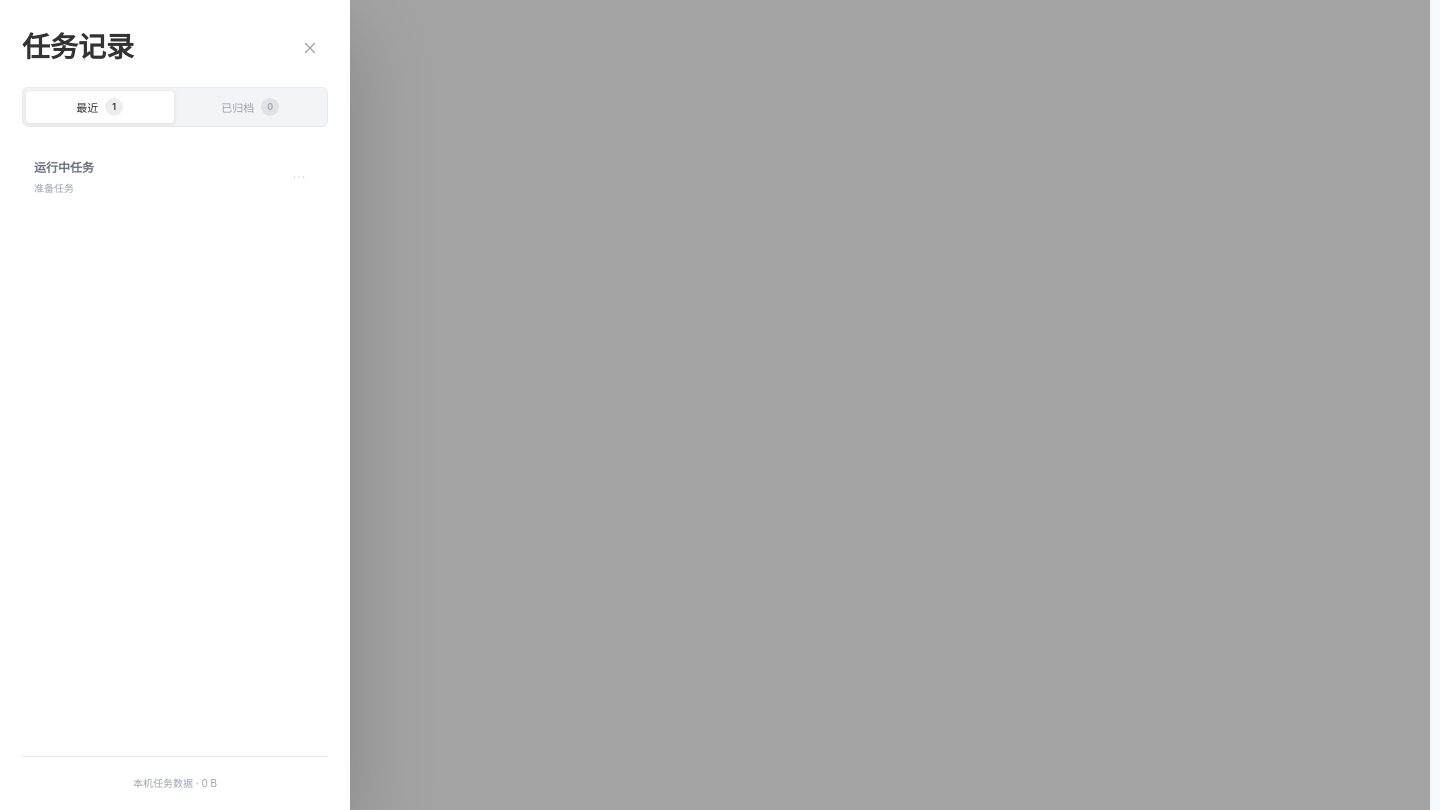
归档与恢复 › queued/running 任务禁用归档与删除菜单项
The image size is (1440, 810).
Expected: the text "运行中任务" is shown, [34,160,94,175]
Click the button named "更多操作" at (299, 177), box [284,162,314,192]
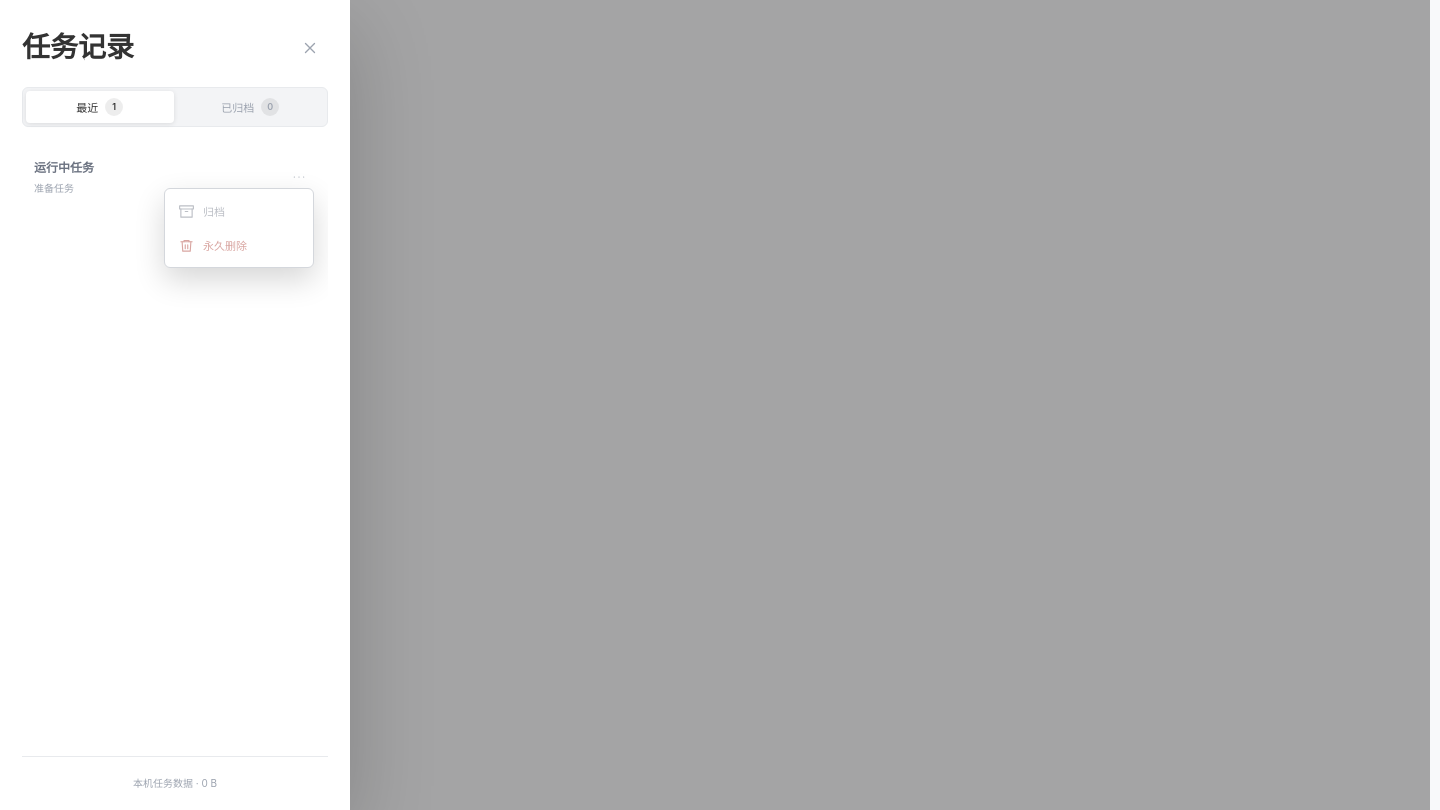
Now the menu item "归档" is disabled, box [170,194,308,228]
Now the menu item "永久删除" is disabled, box [170,228,308,262]
